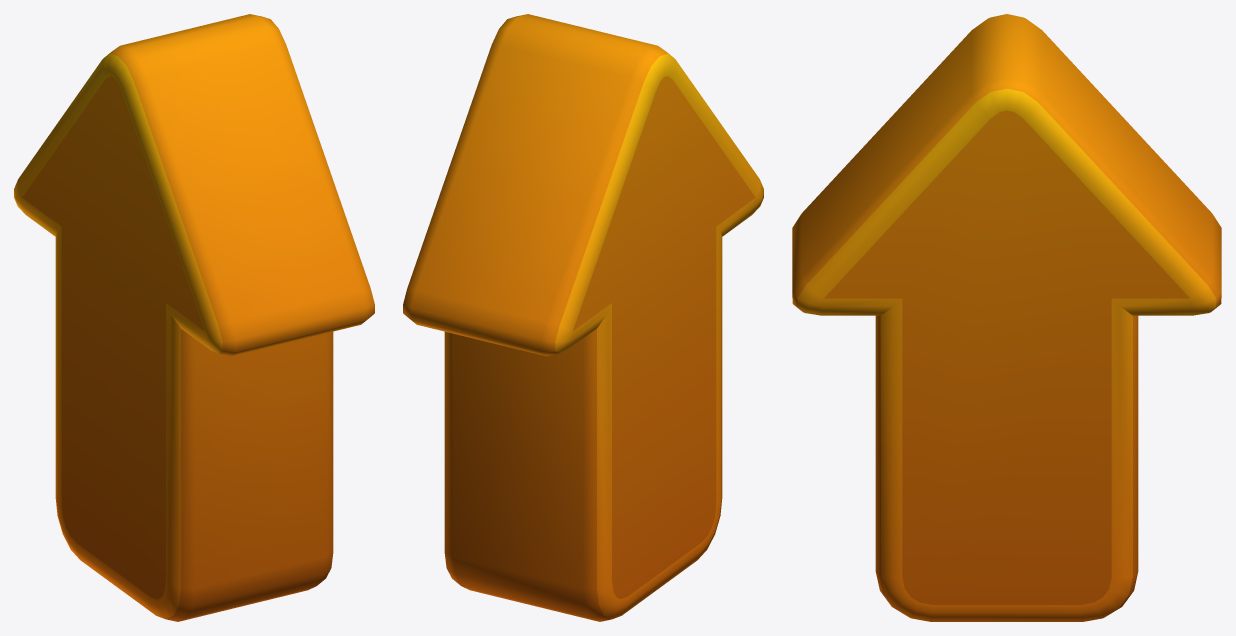
File: Arrow_V3_00.fbx
3 renders of one model, left to right at view 1: azimuth 30°, elevation 25°; view 2: azimuth 150°, elevation 25°; view 3: azimuth 270°, elevation 25°, orthographic.
Visible parts, largest first — view 1: Arrow_V3_00; view 2: Arrow_V3_00; view 3: Arrow_V3_00.
Boxes of the visible parts, left/top/right/bottom form: Arrow_V3_00: left=14, top=14, right=374, bottom=621; Arrow_V3_00: left=403, top=14, right=763, bottom=621; Arrow_V3_00: left=792, top=14, right=1221, bottom=621.
Bounding box in the file's own units: 12.47 × 39.95 × 28.62.
